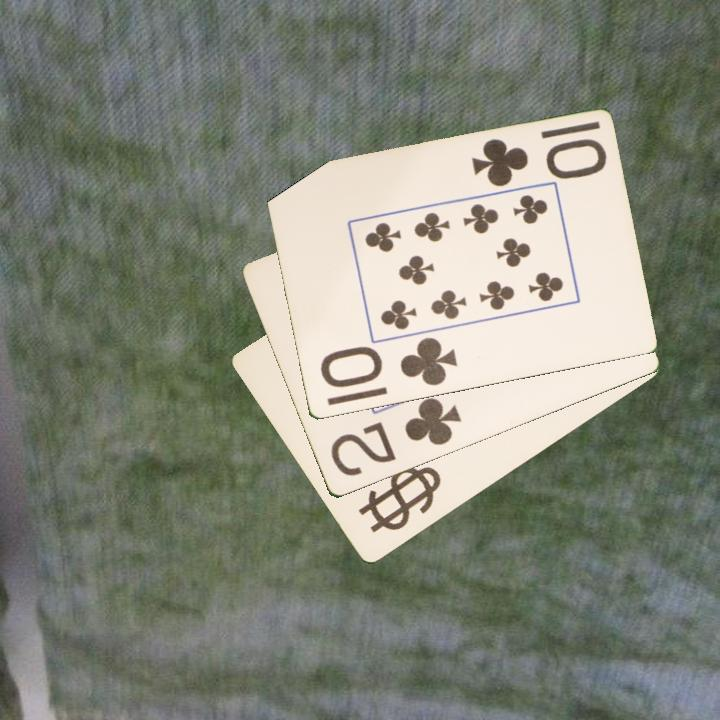10c: (316, 334, 460, 391), (467, 135, 610, 191)
2c: (327, 394, 464, 480)
JK: (371, 469, 438, 529)
